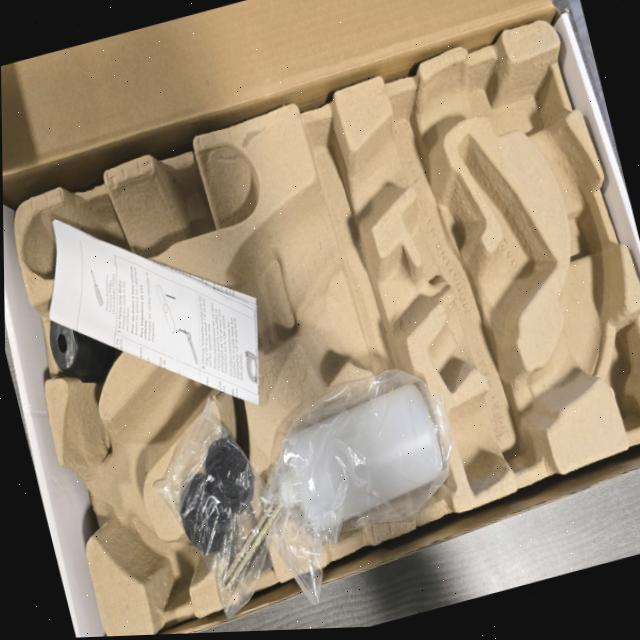1m: (62, 58, 626, 543)
2m: (430, 136, 555, 393)
3o: (255, 386, 449, 543)
4m: (20, 140, 259, 281)
5o: (47, 302, 121, 380)
6m: (112, 509, 201, 613)
7: (148, 398, 291, 616)
8: (47, 217, 259, 408)
